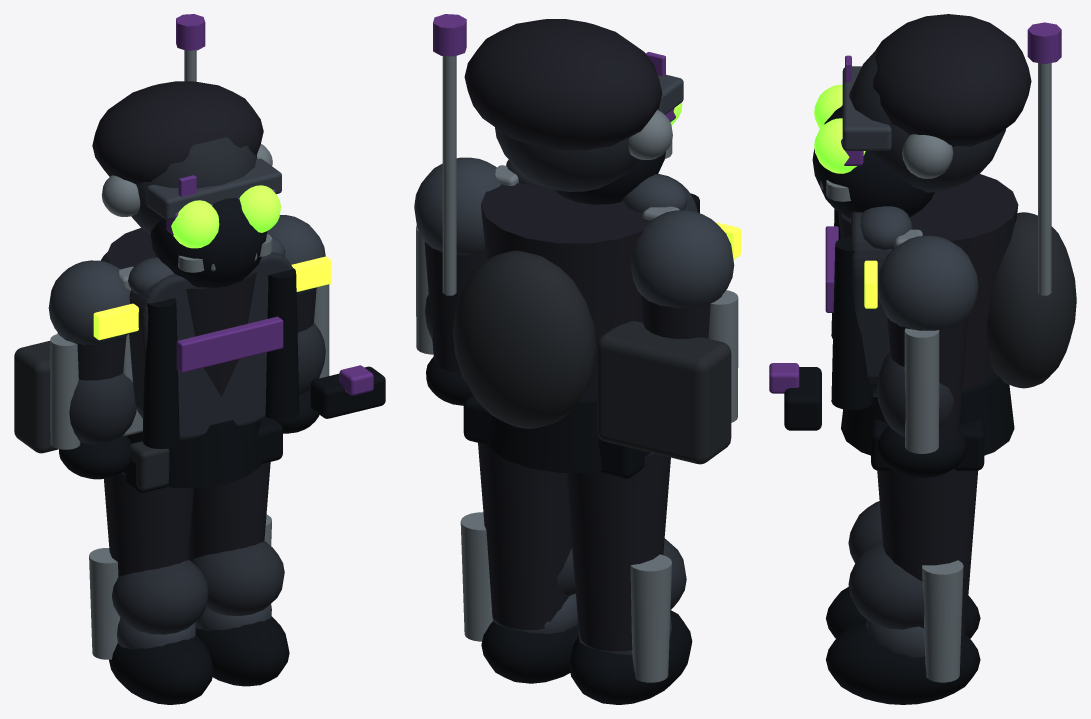
Rendered from recon_l01.glb.
3 renders of one model, left to right at view 1: azimuth 30°, elevation 25°; view 2: azimuth 150°, elevation 25°; view 3: azimuth 270°, elevation 25°, orthographic. The views are drawn at different scales.
Parts seen in each view (by area): view 1: trouser (×2), hood, shaped_knee_guard (×2), rounded_boot (×2), contoured_vest, vest_tether (×2), shoulder_joint (×2), curved_forearm_guard (×2), enclosed_mask, waist_flex, body, rounded_helmet (+19 smaller); view 2: trouser (×2), hood, shaped_field_pack, map_satchel, body, shoulder_joint (×2), rounded_boot (×2), shin_frame (×2), waist_flex, sleeve (×2), rounded_helmet, signal_mast (+10 smaller); view 3: hood, shaped_field_pack, body, trouser, rounded_boot (×2), shoulder_joint, shaped_knee_guard (×2), vest_tether, rounded_helmet, shin_frame, forearm_seam, enclosed_mask (+18 smaller).
Part boxes in pixels (bbox=[...]): trouser (×2): bbox=[104, 462, 270, 618]; hood: bbox=[92, 81, 263, 184]; shaped_knee_guard (×2): bbox=[112, 541, 284, 634]; rounded_boot (×2): bbox=[109, 616, 289, 704]; contoured_vest: bbox=[129, 252, 292, 440]; vest_tether (×2): bbox=[142, 268, 299, 448]; shoulder_joint (×2): bbox=[48, 215, 325, 345]; curved_forearm_guard (×2): bbox=[69, 323, 325, 444]; enclosed_mask: bbox=[150, 198, 267, 288]; waist_flex: bbox=[127, 420, 262, 487]; body: bbox=[106, 228, 256, 396]; rounded_helmet: bbox=[131, 137, 257, 233]; trouser (×2): bbox=[478, 443, 670, 651]; hood: bbox=[464, 19, 662, 150]; shaped_field_pack: bbox=[452, 250, 596, 428]; map_satchel: bbox=[597, 320, 731, 464]; body: bbox=[480, 182, 649, 399]; shoulder_joint (×2): bbox=[414, 157, 734, 308]; rounded_boot (×2): bbox=[481, 610, 692, 704]; shin_frame (×2): bbox=[460, 512, 671, 682]; waist_flex: bbox=[487, 398, 602, 472]; sleeve (×2): bbox=[424, 241, 721, 373]; rounded_helmet: bbox=[495, 127, 638, 191]; signal_mast: bbox=[442, 56, 456, 295]; hood: bbox=[873, 14, 1031, 146]; shaped_field_pack: bbox=[987, 212, 1076, 388]; body: bbox=[838, 173, 1018, 390]; trouser: bbox=[877, 468, 977, 638]; rounded_boot (×2): bbox=[826, 587, 980, 704]; shoulder_joint: bbox=[877, 235, 978, 330]; shaped_knee_guard (×2): bbox=[848, 501, 924, 629]; vest_tether: bbox=[831, 237, 872, 409]; rounded_helmet: bbox=[849, 49, 1005, 192]; shin_frame: bbox=[922, 560, 963, 682]; forearm_seam: bbox=[904, 328, 939, 453]; enclosed_mask: bbox=[812, 106, 934, 218].
Size of the model in its own units: 0.9653 by 1.98 by 0.815.
